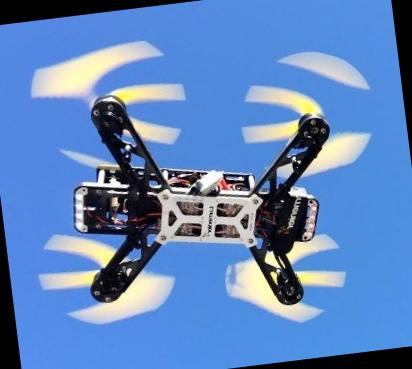drone: (12, 39, 370, 331)
